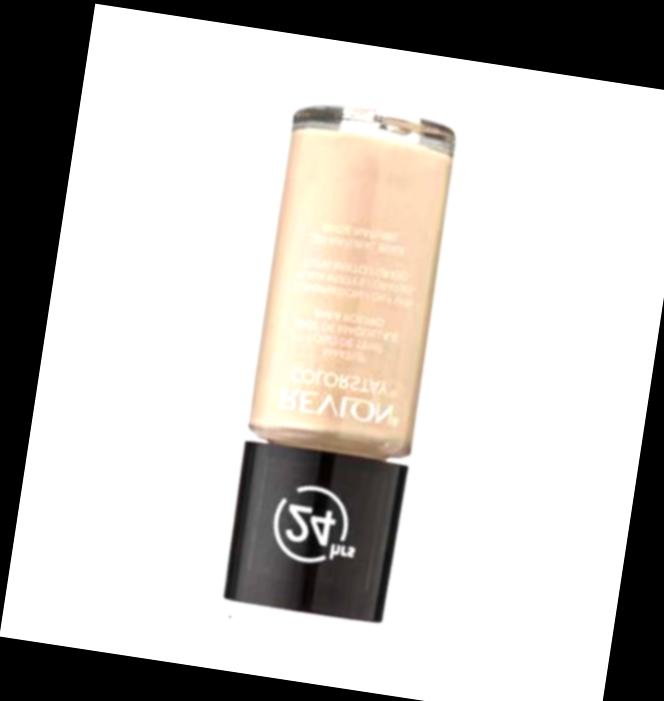cosmetic: (218, 102, 458, 622)
